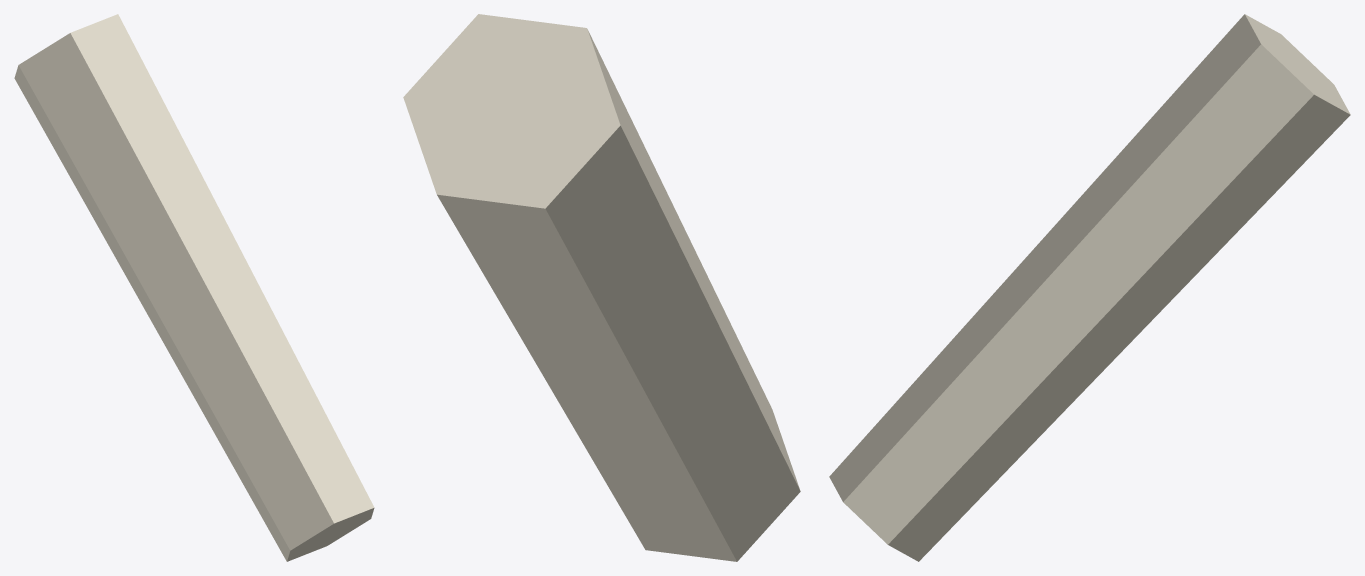
The model's file is rm2_arm_l_upper.obj.
3 renders of one model, left to right at view 1: azimuth 30°, elevation 25°; view 2: azimuth 150°, elevation 25°; view 3: azimuth 270°, elevation 25°, orthographic. The views are drawn at different scales.
Visible parts, largest first — view 1: rm2_arm_l_upper; view 2: rm2_arm_l_upper; view 3: rm2_arm_l_upper.
Boxes of the visible parts, x1,y1,x2,y2 form: rm2_arm_l_upper: (14,14,374,561); rm2_arm_l_upper: (403,14,800,561); rm2_arm_l_upper: (829,14,1350,561).
Size of the model in its own units: 0.1409 by 0.3296 by 0.32.
